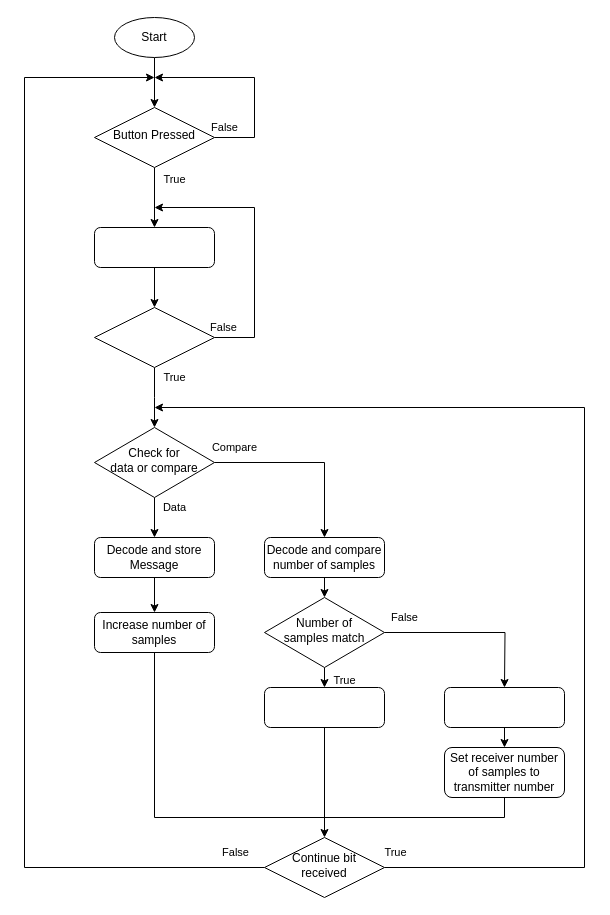
The diagram is 610 pixels wide and 915 high, and some of its shapes have lost their labels. The shapes that lost their labels are listed below. From the top down, each one's centre as x and y in pixels, then its label:
At point 154,247: "Wait for start signal".
At point 154,337: "Start Bit recieved".
At point 324,707: "Flash onboard green LED".
At point 504,707: "Flash onboard blue LED".
